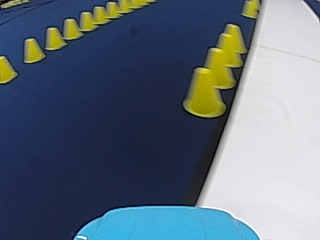cone: (182, 66, 224, 117), (201, 46, 234, 88), (217, 23, 246, 65), (22, 37, 44, 63), (44, 26, 64, 50), (0, 55, 17, 83), (62, 18, 81, 39), (78, 11, 94, 30), (240, 0, 257, 17), (91, 6, 107, 24), (105, 1, 118, 18)
